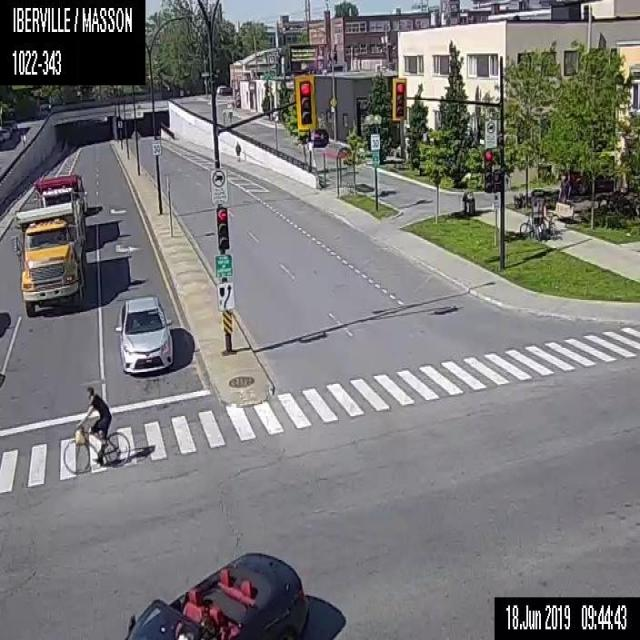cyclist: (63, 384, 129, 476)
pedestrian: (234, 139, 241, 161)
vehicle: (125, 549, 308, 639), (13, 200, 85, 318), (114, 293, 174, 375), (30, 174, 84, 210), (313, 125, 327, 148)
